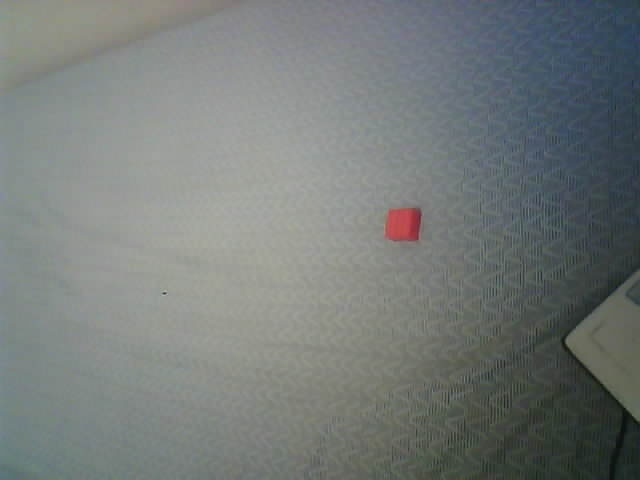lego: (384, 207, 422, 242)
